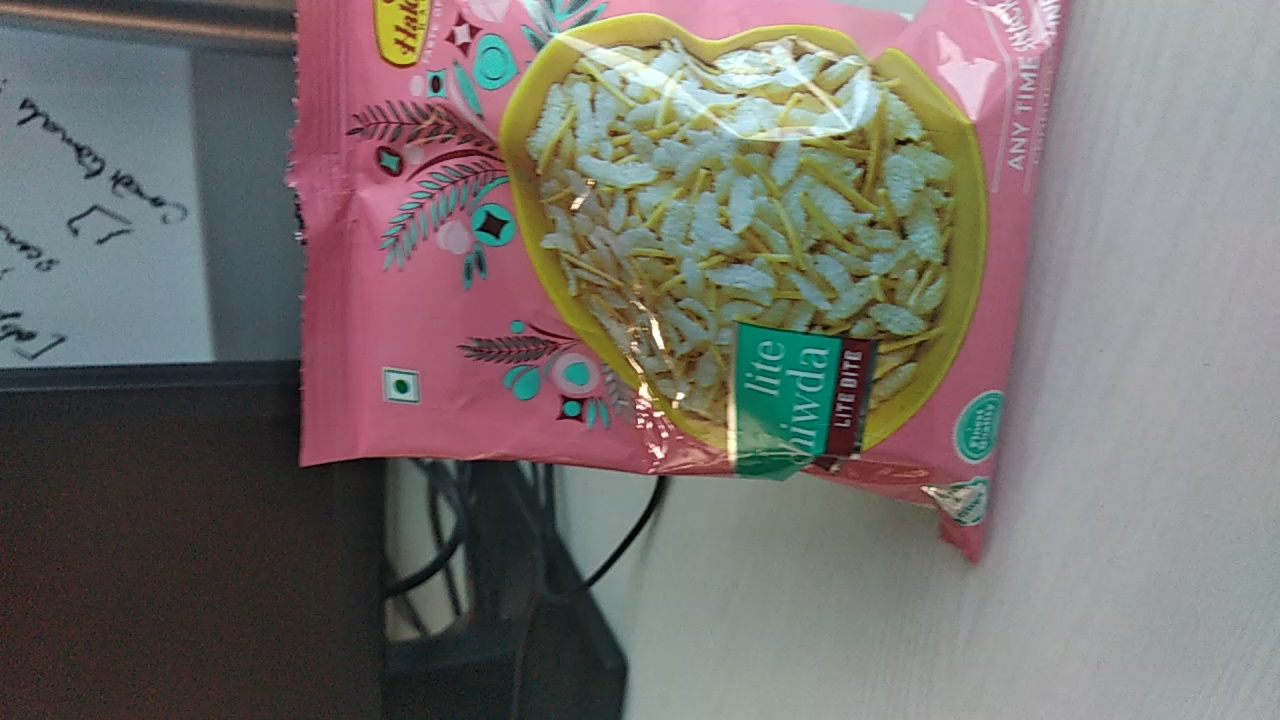liteSnack: (283, 2, 1039, 568)
